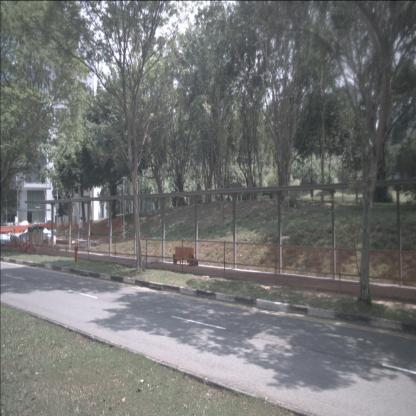human-pedestrian-adult: (78, 217, 83, 240)
movable_object-barrier: (14, 225, 33, 241), (40, 222, 57, 239), (0, 225, 15, 241)
movable_object-trafficcone: (20, 236, 25, 252), (29, 236, 34, 251), (24, 237, 28, 252), (64, 220, 67, 229)
